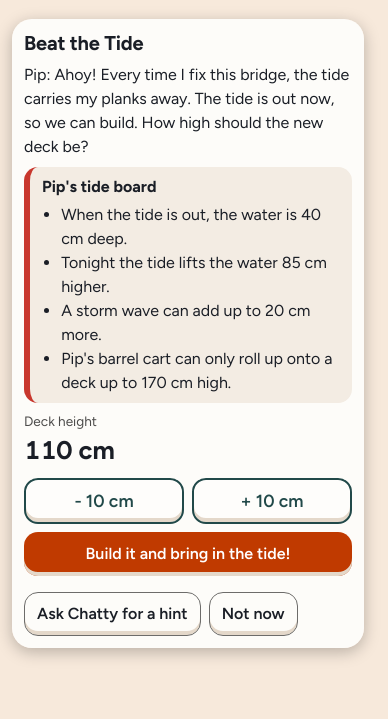
it: TideTrialPanel › reveals hints one at a time
Click the button "Ask Chatty for a hint".
click(112, 614)  # box [24,592,201,636]
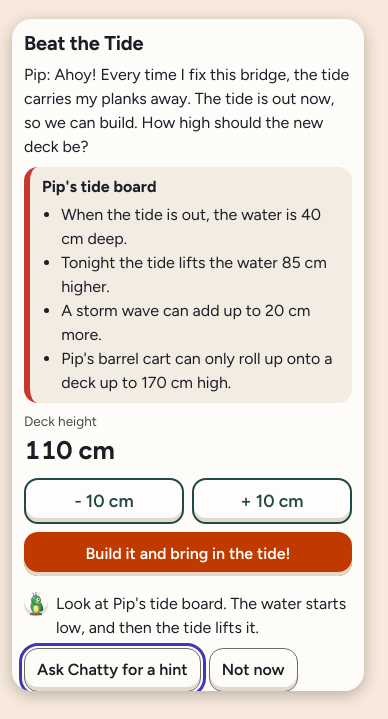
Expected: the 5th list item shows "tide board", [56,594,346,637]
Click the button "Ask Chatty for a hint".
click(112, 670)  # box [24,648,201,692]
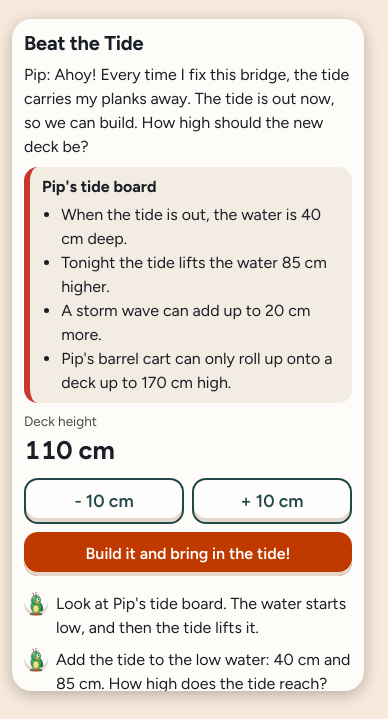
Expected: the text "40 cm and 85 cm" is shown, [56,650,350,691]
